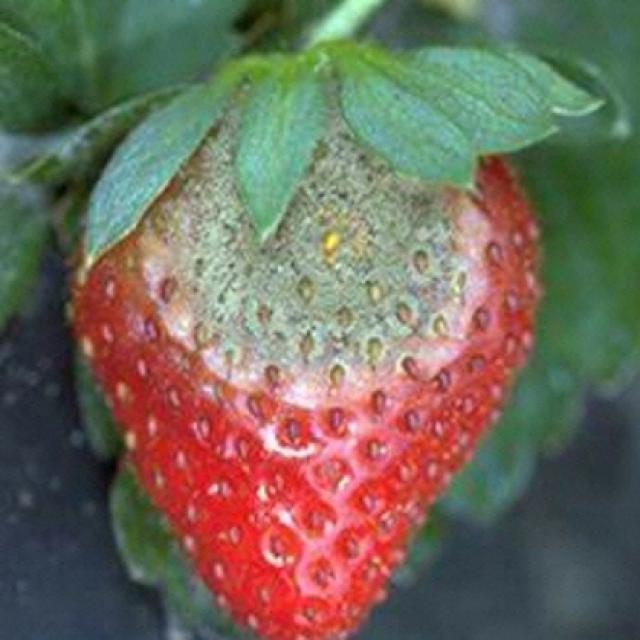Gray Mold: (125, 76, 514, 429)
